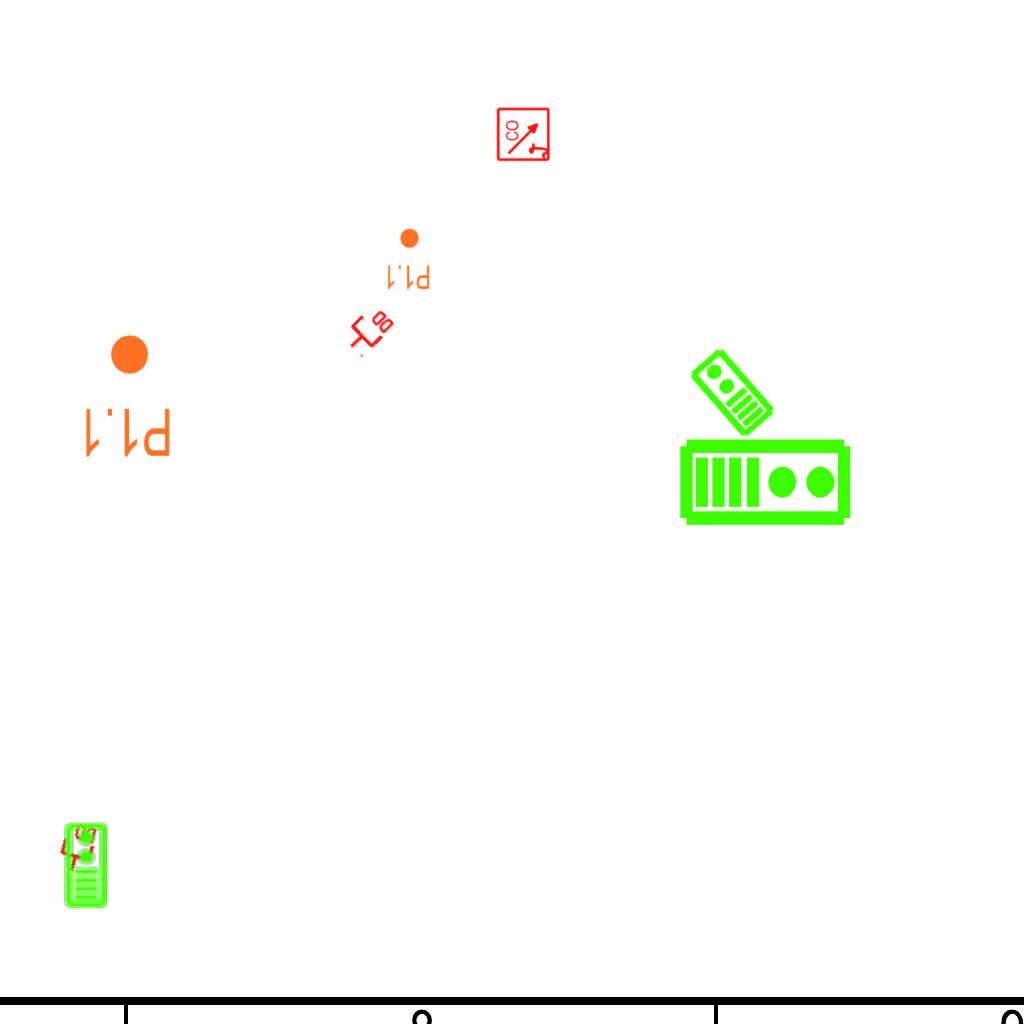Datenanschluss_zweifach: (337, 299, 399, 360), (53, 818, 101, 877)
Downlight_LED_Einbauleuchten_Flur: (80, 332, 173, 460), (385, 227, 431, 291)
Gegensprechanlage_mit_Video: (678, 433, 854, 528), (684, 344, 779, 442), (62, 821, 109, 909)
ROA_Rauchmelder_optisch_mit_Signalgeber_(Sockelsirene): (496, 106, 552, 162)
